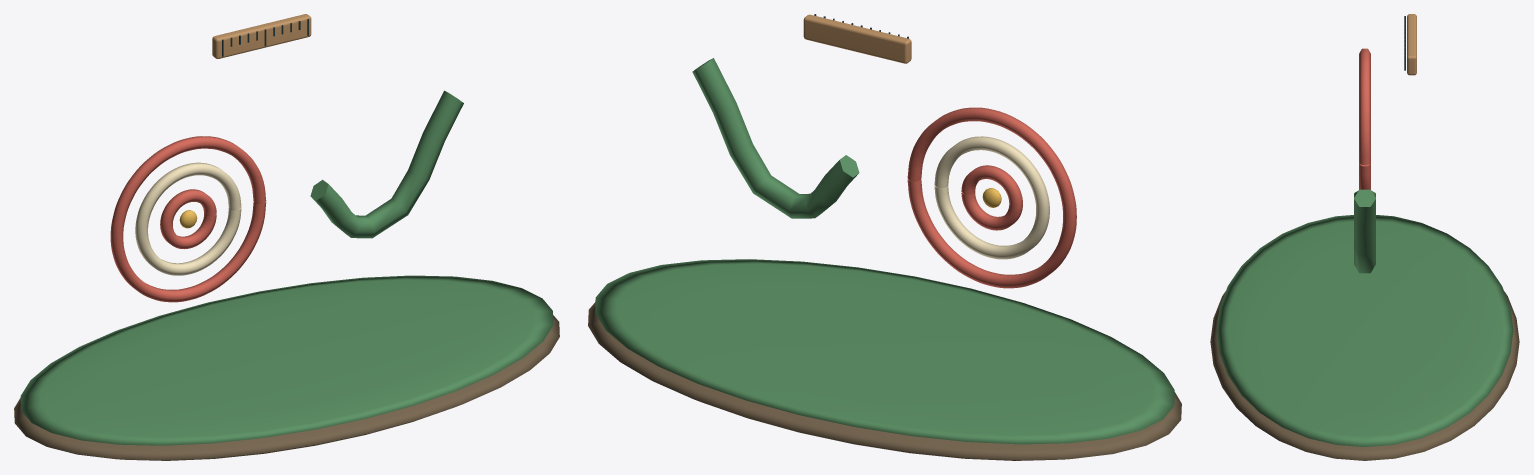
File: complete-third-accurate-certainty.glb
3 views of the same model, side by side, from view 1: azimuth 30°, elevation 25°; view 2: azimuth 150°, elevation 25°; view 3: azimuth 270°, elevation 25° (orthographic). The views are drawn at different scales.
Parts seen in each view (by area): view 1: complete-third-accurate-certainty_surface_01, complete-third-accurate-certainty_surface_00, complete-third-accurate-certainty_surface_02, complete-third-accurate-certainty_surface_03, complete-third-accurate-certainty_surface_05; view 2: complete-third-accurate-certainty_surface_01, complete-third-accurate-certainty_surface_00, complete-third-accurate-certainty_surface_02, complete-third-accurate-certainty_surface_03, complete-third-accurate-certainty_surface_05; view 3: complete-third-accurate-certainty_surface_01, complete-third-accurate-certainty_surface_00, complete-third-accurate-certainty_surface_02, complete-third-accurate-certainty_surface_05.
Part boxes in pixels (<box>): complete-third-accurate-certainty_surface_01: <box>20,90,553,445</box>; complete-third-accurate-certainty_surface_00: <box>14,315,559,460</box>; complete-third-accurate-certainty_surface_02: <box>110,136,266,302</box>; complete-third-accurate-certainty_surface_03: <box>135,162,241,275</box>; complete-third-accurate-certainty_surface_05: <box>212,14,311,58</box>; complete-third-accurate-certainty_surface_01: <box>595,58,1174,444</box>; complete-third-accurate-certainty_surface_00: <box>588,302,1181,460</box>; complete-third-accurate-certainty_surface_02: <box>907,107,1076,288</box>; complete-third-accurate-certainty_surface_03: <box>934,136,1049,259</box>; complete-third-accurate-certainty_surface_05: <box>803,14,911,63</box>; complete-third-accurate-certainty_surface_01: <box>1216,189,1513,446</box>; complete-third-accurate-certainty_surface_00: <box>1210,291,1519,460</box>; complete-third-accurate-certainty_surface_02: <box>1359,48,1370,189</box>; complete-third-accurate-certainty_surface_05: <box>1407,14,1416,75</box>.
Size of the model in its own units: 4.56 by 2.87 by 2.5.
